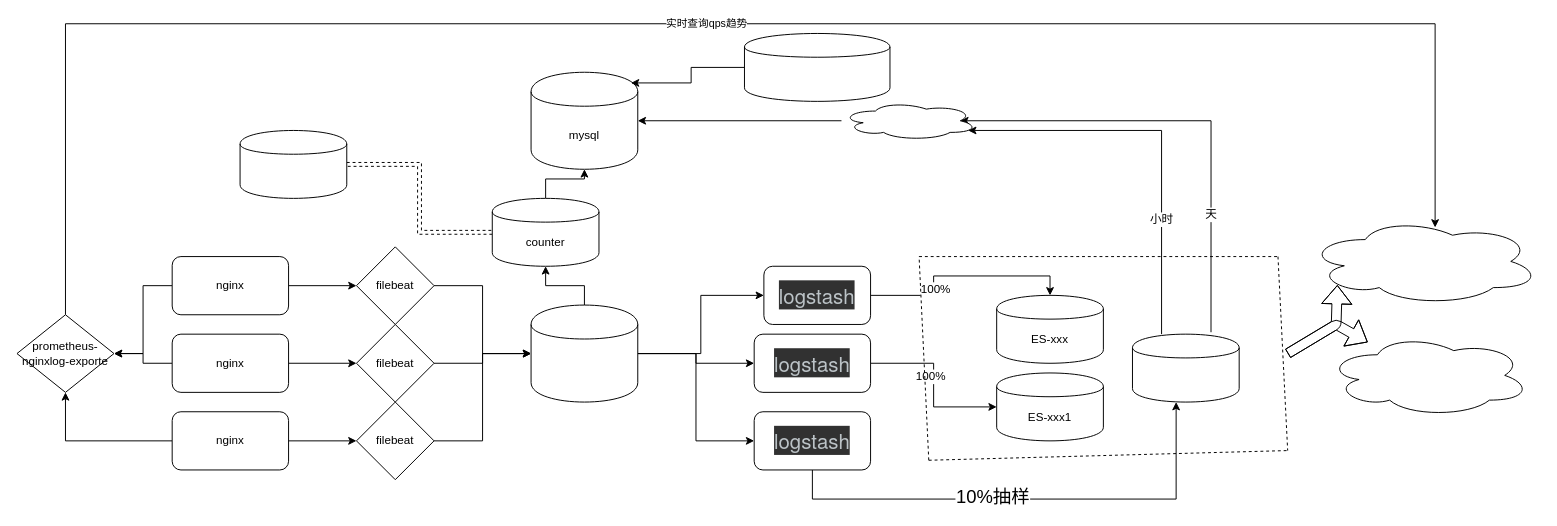
This 1557x526 diagram has some shape labels left out. Each missing label, with the centre of its shape:
"ES-xxxdomain" belongs at point 1185,367.
"http://kib.xxx.com/" belongs at point 1428,375.
"http://prometheus.xxx.com/" belongs at point 1423,261.
"kafka Topics1，topics2，topics3" belongs at point 584,353.
"nginx-access报表 天/月/年" belongs at point 817,66.
"Python定时任务" belongs at point 909,120.
"Redis" belongs at point 293,163.
